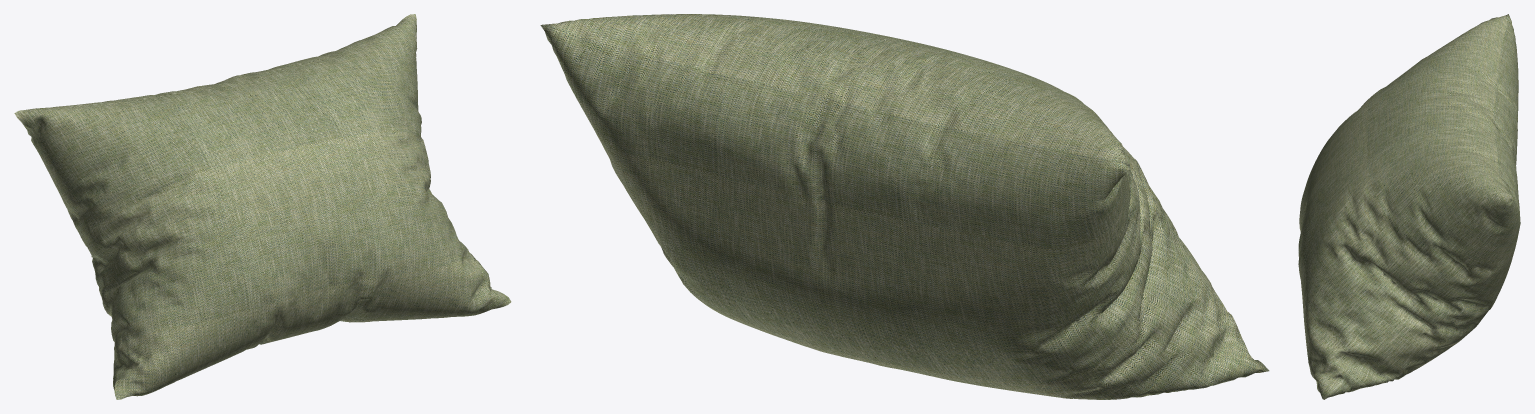
3 renders of one model, left to right at view 1: azimuth 30°, elevation 25°; view 2: azimuth 150°, elevation 25°; view 3: azimuth 270°, elevation 25°, orthographic. The views are drawn at different scales.
Visible parts, largest first — view 1: pillow_2; view 2: pillow_2; view 3: pillow_2.
Boxes of the visible parts, x1,y1,x2,y2 form: pillow_2: [14, 14, 511, 399]; pillow_2: [540, 14, 1269, 399]; pillow_2: [1298, 14, 1520, 399].
Size of the model in its own units: 0.7644 by 0.4016 by 0.3871.
Materials: 1 (1 with a texture image).
